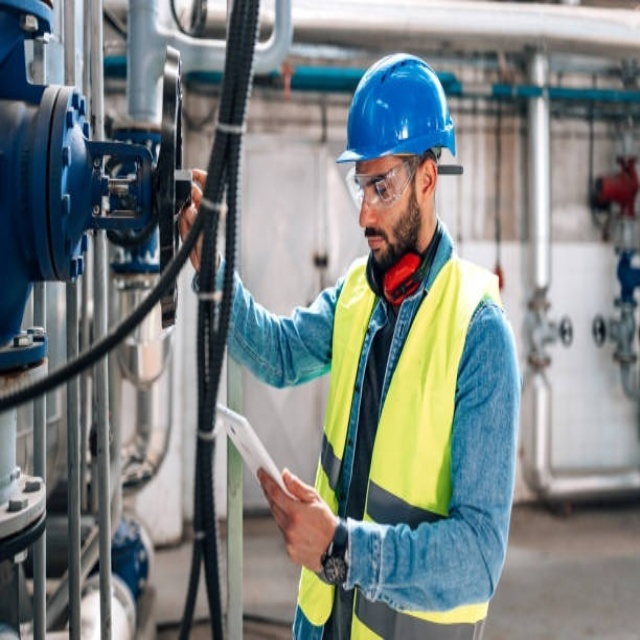Gafas: (351, 158, 420, 209)
Sin_guantes: (258, 467, 338, 574), (175, 173, 219, 276)
Sin_mascara: (364, 226, 391, 267)
